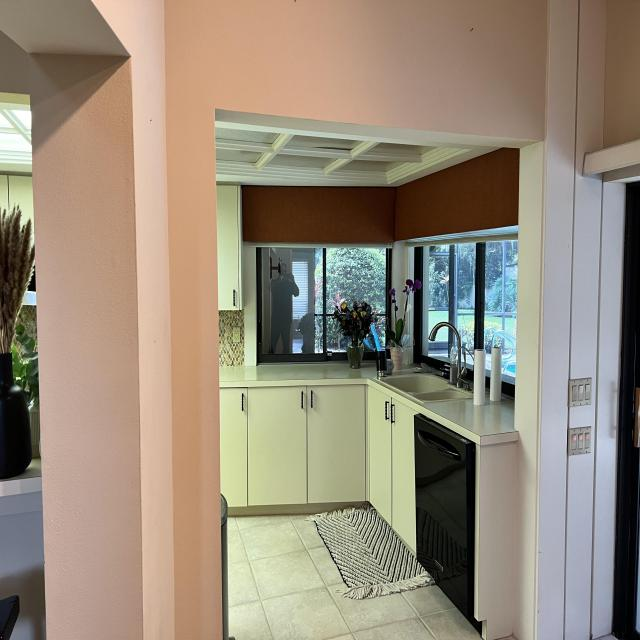Appliance_Dishwasher: (414, 416, 477, 617)
Appliance_Sink: (381, 320, 472, 401)
Cabinet_Flat: (220, 379, 418, 547), (216, 181, 245, 311)
Countertop_Laminate: (218, 364, 519, 446)
